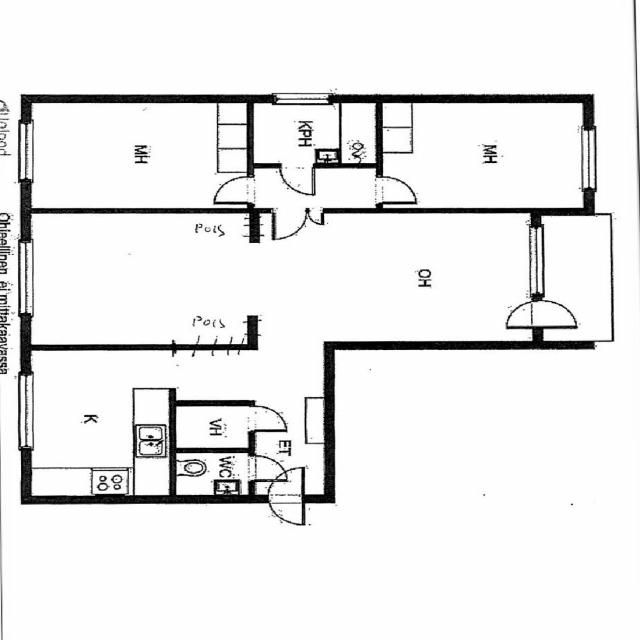door: (268, 467, 304, 503), (268, 496, 304, 532), (496, 301, 541, 328), (531, 301, 575, 328), (376, 176, 416, 204), (213, 176, 252, 204), (280, 163, 314, 195), (248, 455, 287, 481), (274, 208, 306, 238), (248, 406, 285, 431), (306, 208, 324, 226)
